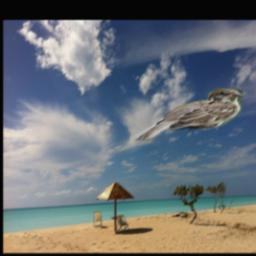Sparrow: (136, 88, 243, 142)
